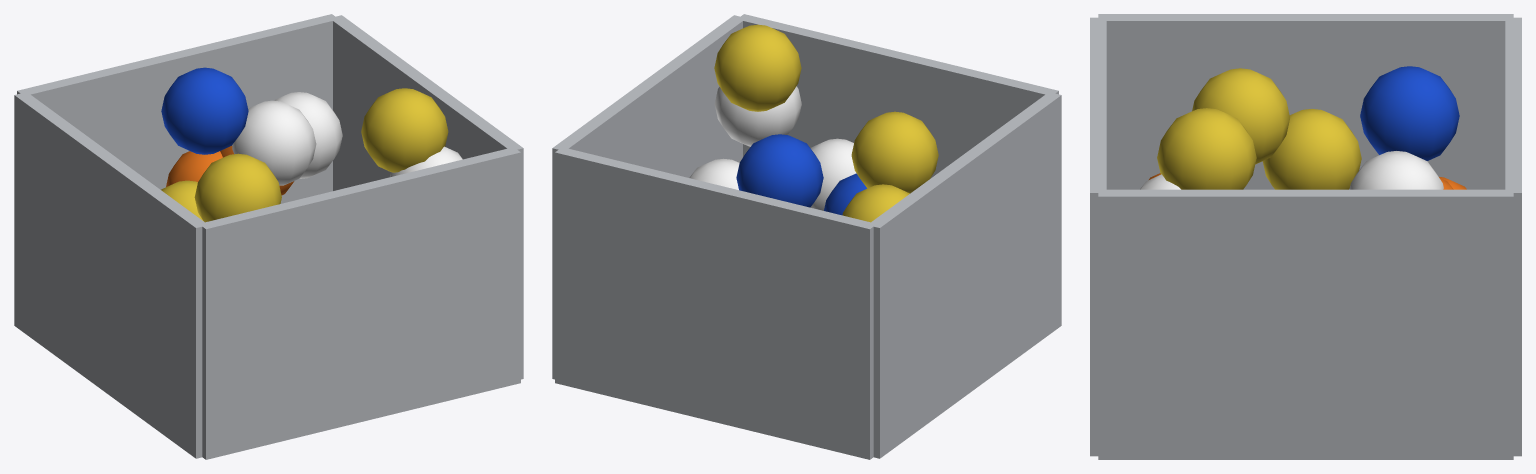
The model's file is ball_bin.glb.
3 renders of one model, left to right at view 1: azimuth 30°, elevation 25°; view 2: azimuth 150°, elevation 25°; view 3: azimuth 270°, elevation 25°, orthographic. The views are drawn at different scales.
Parts seen in each view (by area): view 1: ball_bin; view 2: ball_bin; view 3: ball_bin.
Boxes of the visible parts, left/top/right/bottom form: ball_bin: left=14, top=14, right=523, bottom=459; ball_bin: left=552, top=14, right=1061, bottom=459; ball_bin: left=1090, top=14, right=1521, bottom=459.
Bounding box in the file's own units: 1.04 × 0.8171 × 1.04.
Materials: 1 (1 with a texture image).
